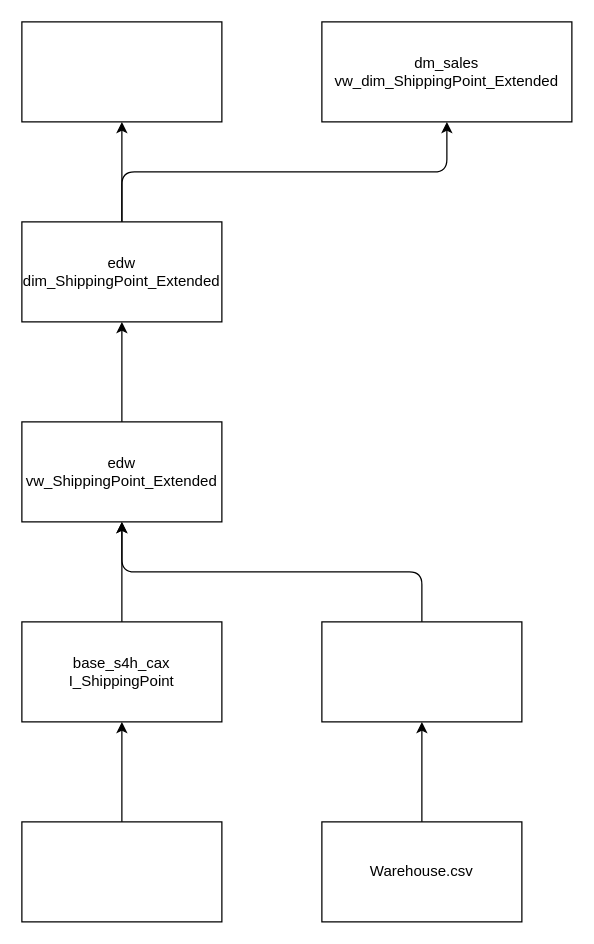
The diagram is 594 pixels wide and 944 high, and some of its shapes have lost their labels. Here are the shapes that lost their labels. From the top down, the centre of each, then its label:
At pixel 121 71: "dm_sales vw_dim_ShippingPoint".
At pixel 421 671: "base_ff Warehouse".
At pixel 121 871: "XtractUniversal I_ShippingPoint".
